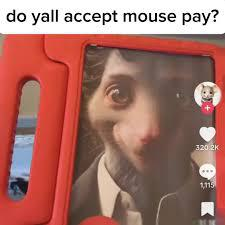mouse-pay: (84, 47, 216, 221)
